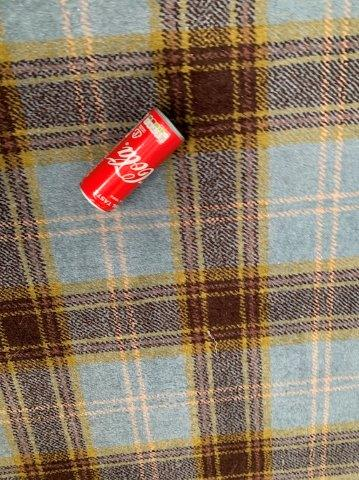kaleng: (81, 108, 183, 213)
